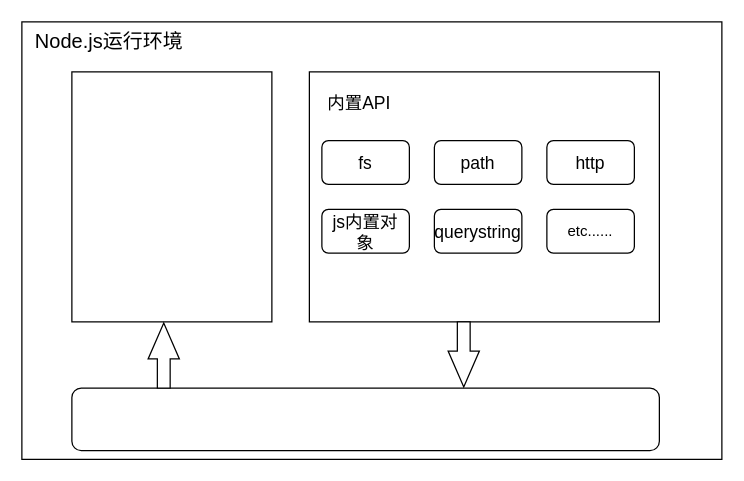
Some shapes in this 744 by 481 pixel diagram are drawn without their labels. Here are the shapes that lost their labels. From the top down, the centre of each, then its label:
At [171,196]: "V8引擎".
At [365,419]: "待执行的javascript代码".
